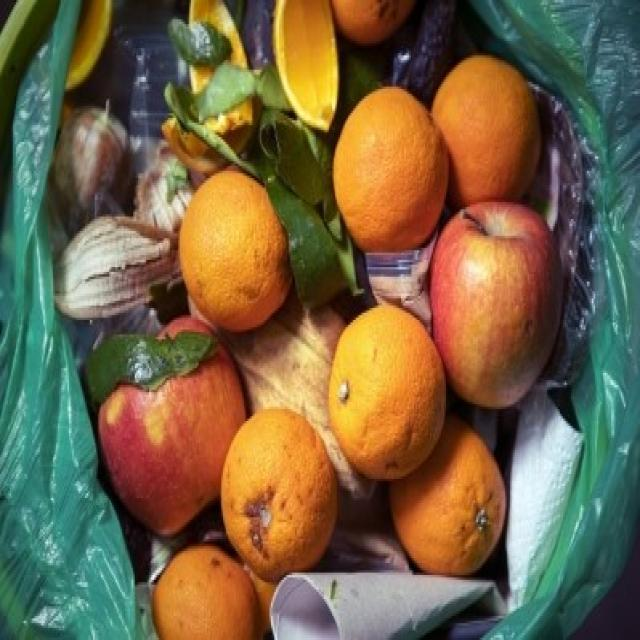Wet: (98, 317, 252, 540), (429, 199, 565, 406), (329, 305, 448, 482), (220, 406, 338, 583), (386, 412, 507, 580), (334, 86, 450, 254), (180, 166, 294, 333), (431, 52, 542, 206), (56, 216, 182, 320), (74, 328, 222, 403), (273, 3, 340, 132)
